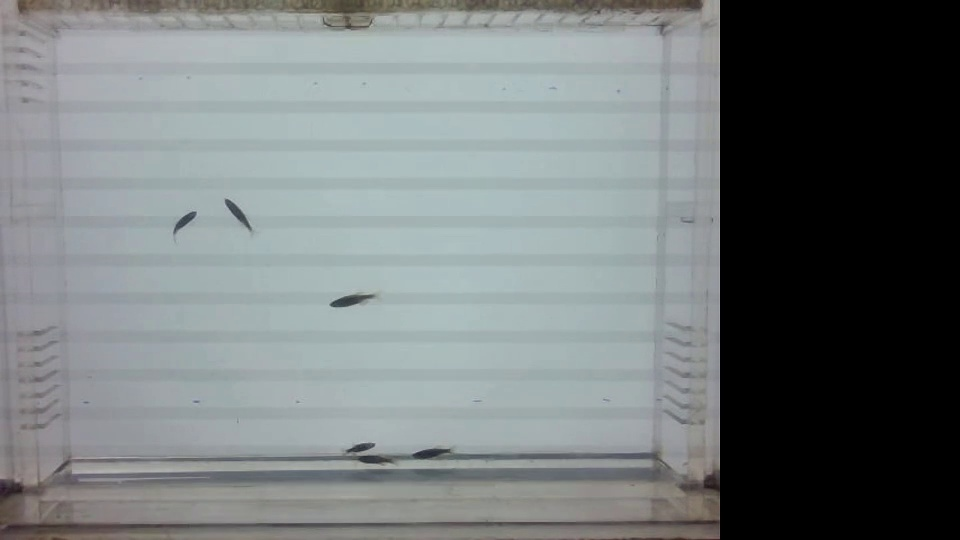fish: (214, 200, 260, 238), (321, 284, 393, 308), (168, 206, 204, 246), (408, 440, 461, 461), (334, 437, 376, 457), (360, 454, 392, 468)
